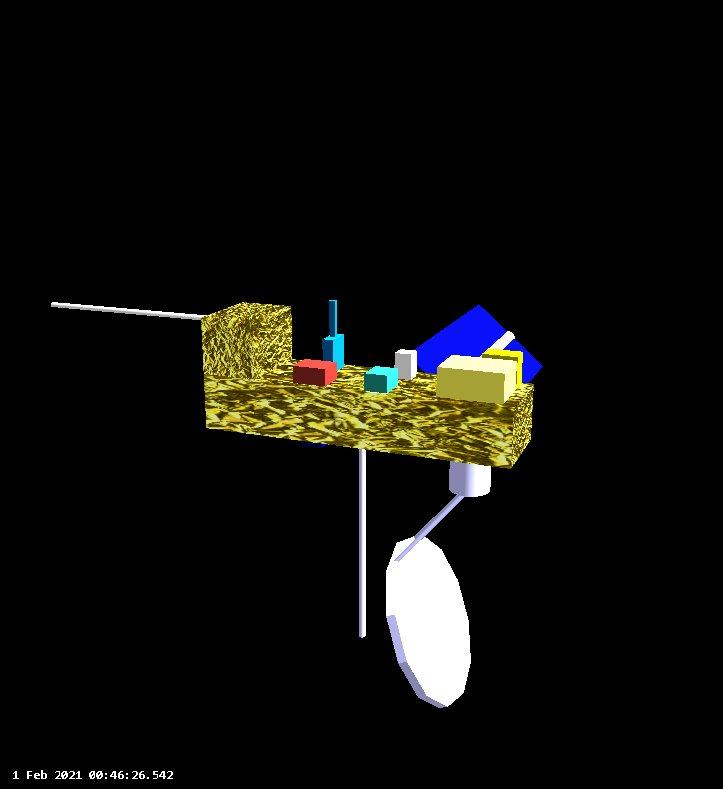antenna: (387, 533, 475, 713), (44, 295, 218, 329), (352, 443, 379, 641)
body: (197, 295, 539, 471)
solar: (402, 302, 548, 402)
